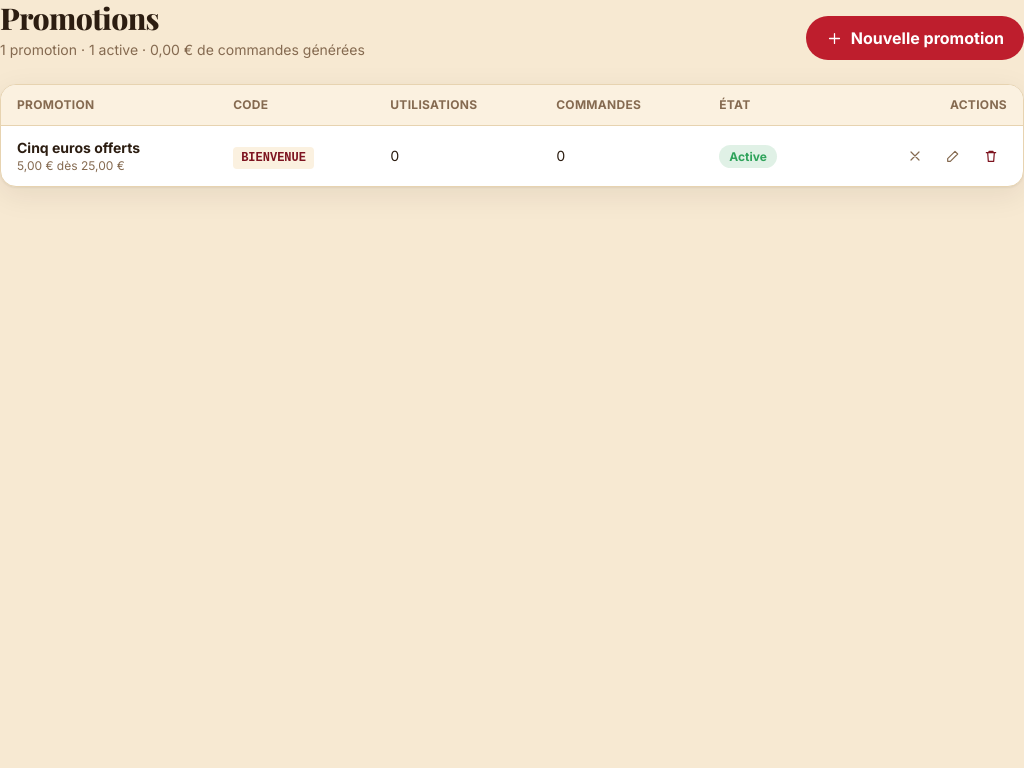
Scenario: Promotions — un champ de montant vidé pour être retapé › refuse un pourcentage vide sans le transformer en 0 %
Click the button named "Modifier" at (953, 156), box [937, 140, 969, 172]
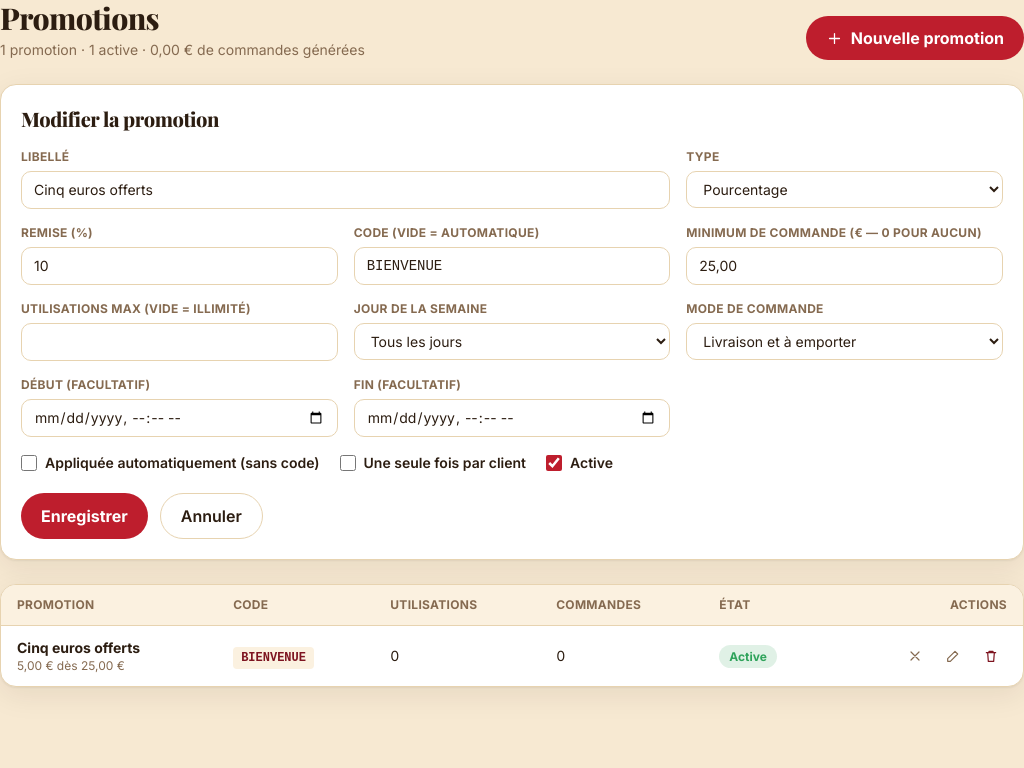
Clear the field with placeholder "10" at (179, 266), box [21, 247, 338, 285]
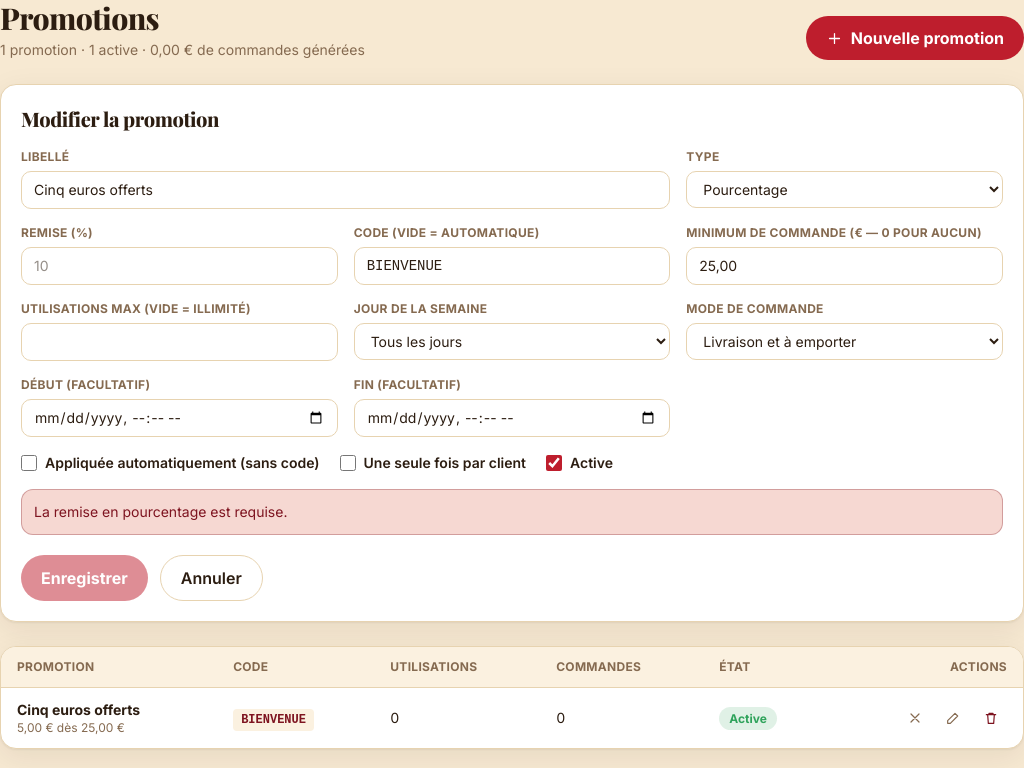
Expected: the text "La remise en pourcentage est requise." is shown, [21, 489, 1003, 535]
Expected: the button "Enregistrer" is disabled, [21, 555, 148, 601]
